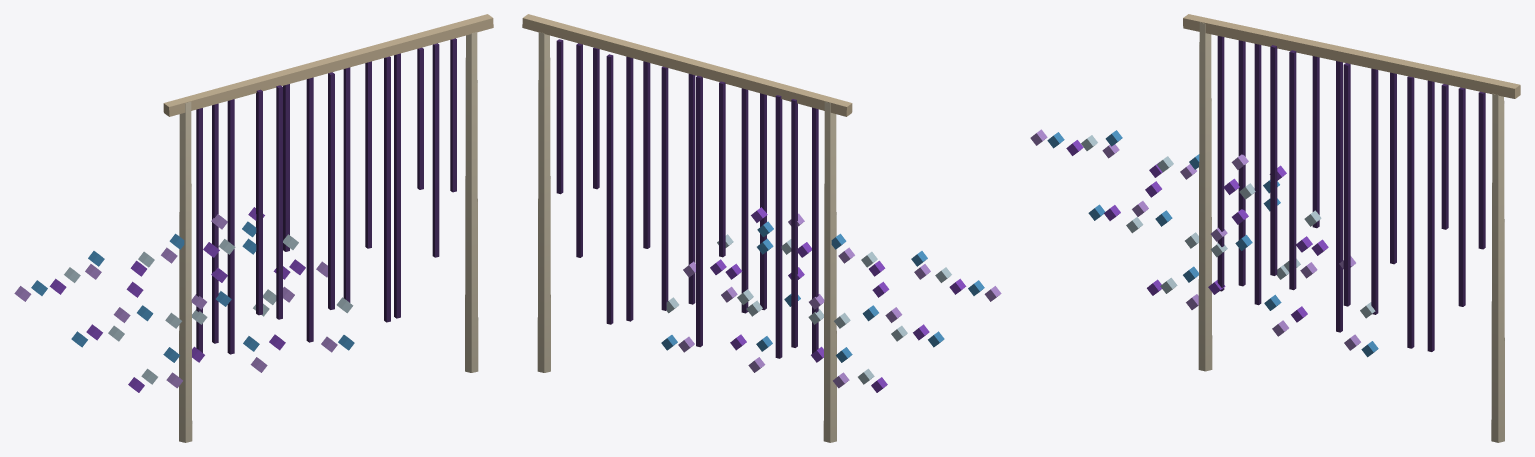
Rendered from vine_curtain.glb.
3 views of the same model, side by side, from view 1: azimuth 30°, elevation 25°; view 2: azimuth 150°, elevation 25°; view 3: azimuth 330°, elevation 25° (orthographic). The views are drawn at different scales.
Parts seen in each view (by area): view 1: vine_curtain; view 2: vine_curtain; view 3: vine_curtain.
Part boxes in pixels (x1=…): vine_curtain: x1=14, y1=14, x2=493, y2=442; vine_curtain: x1=522, y1=14, x2=1001, y2=442; vine_curtain: x1=1030, y1=14, x2=1520, y2=442.
Size of the model in its own units: 4.97 by 3.5 by 0.1996.
